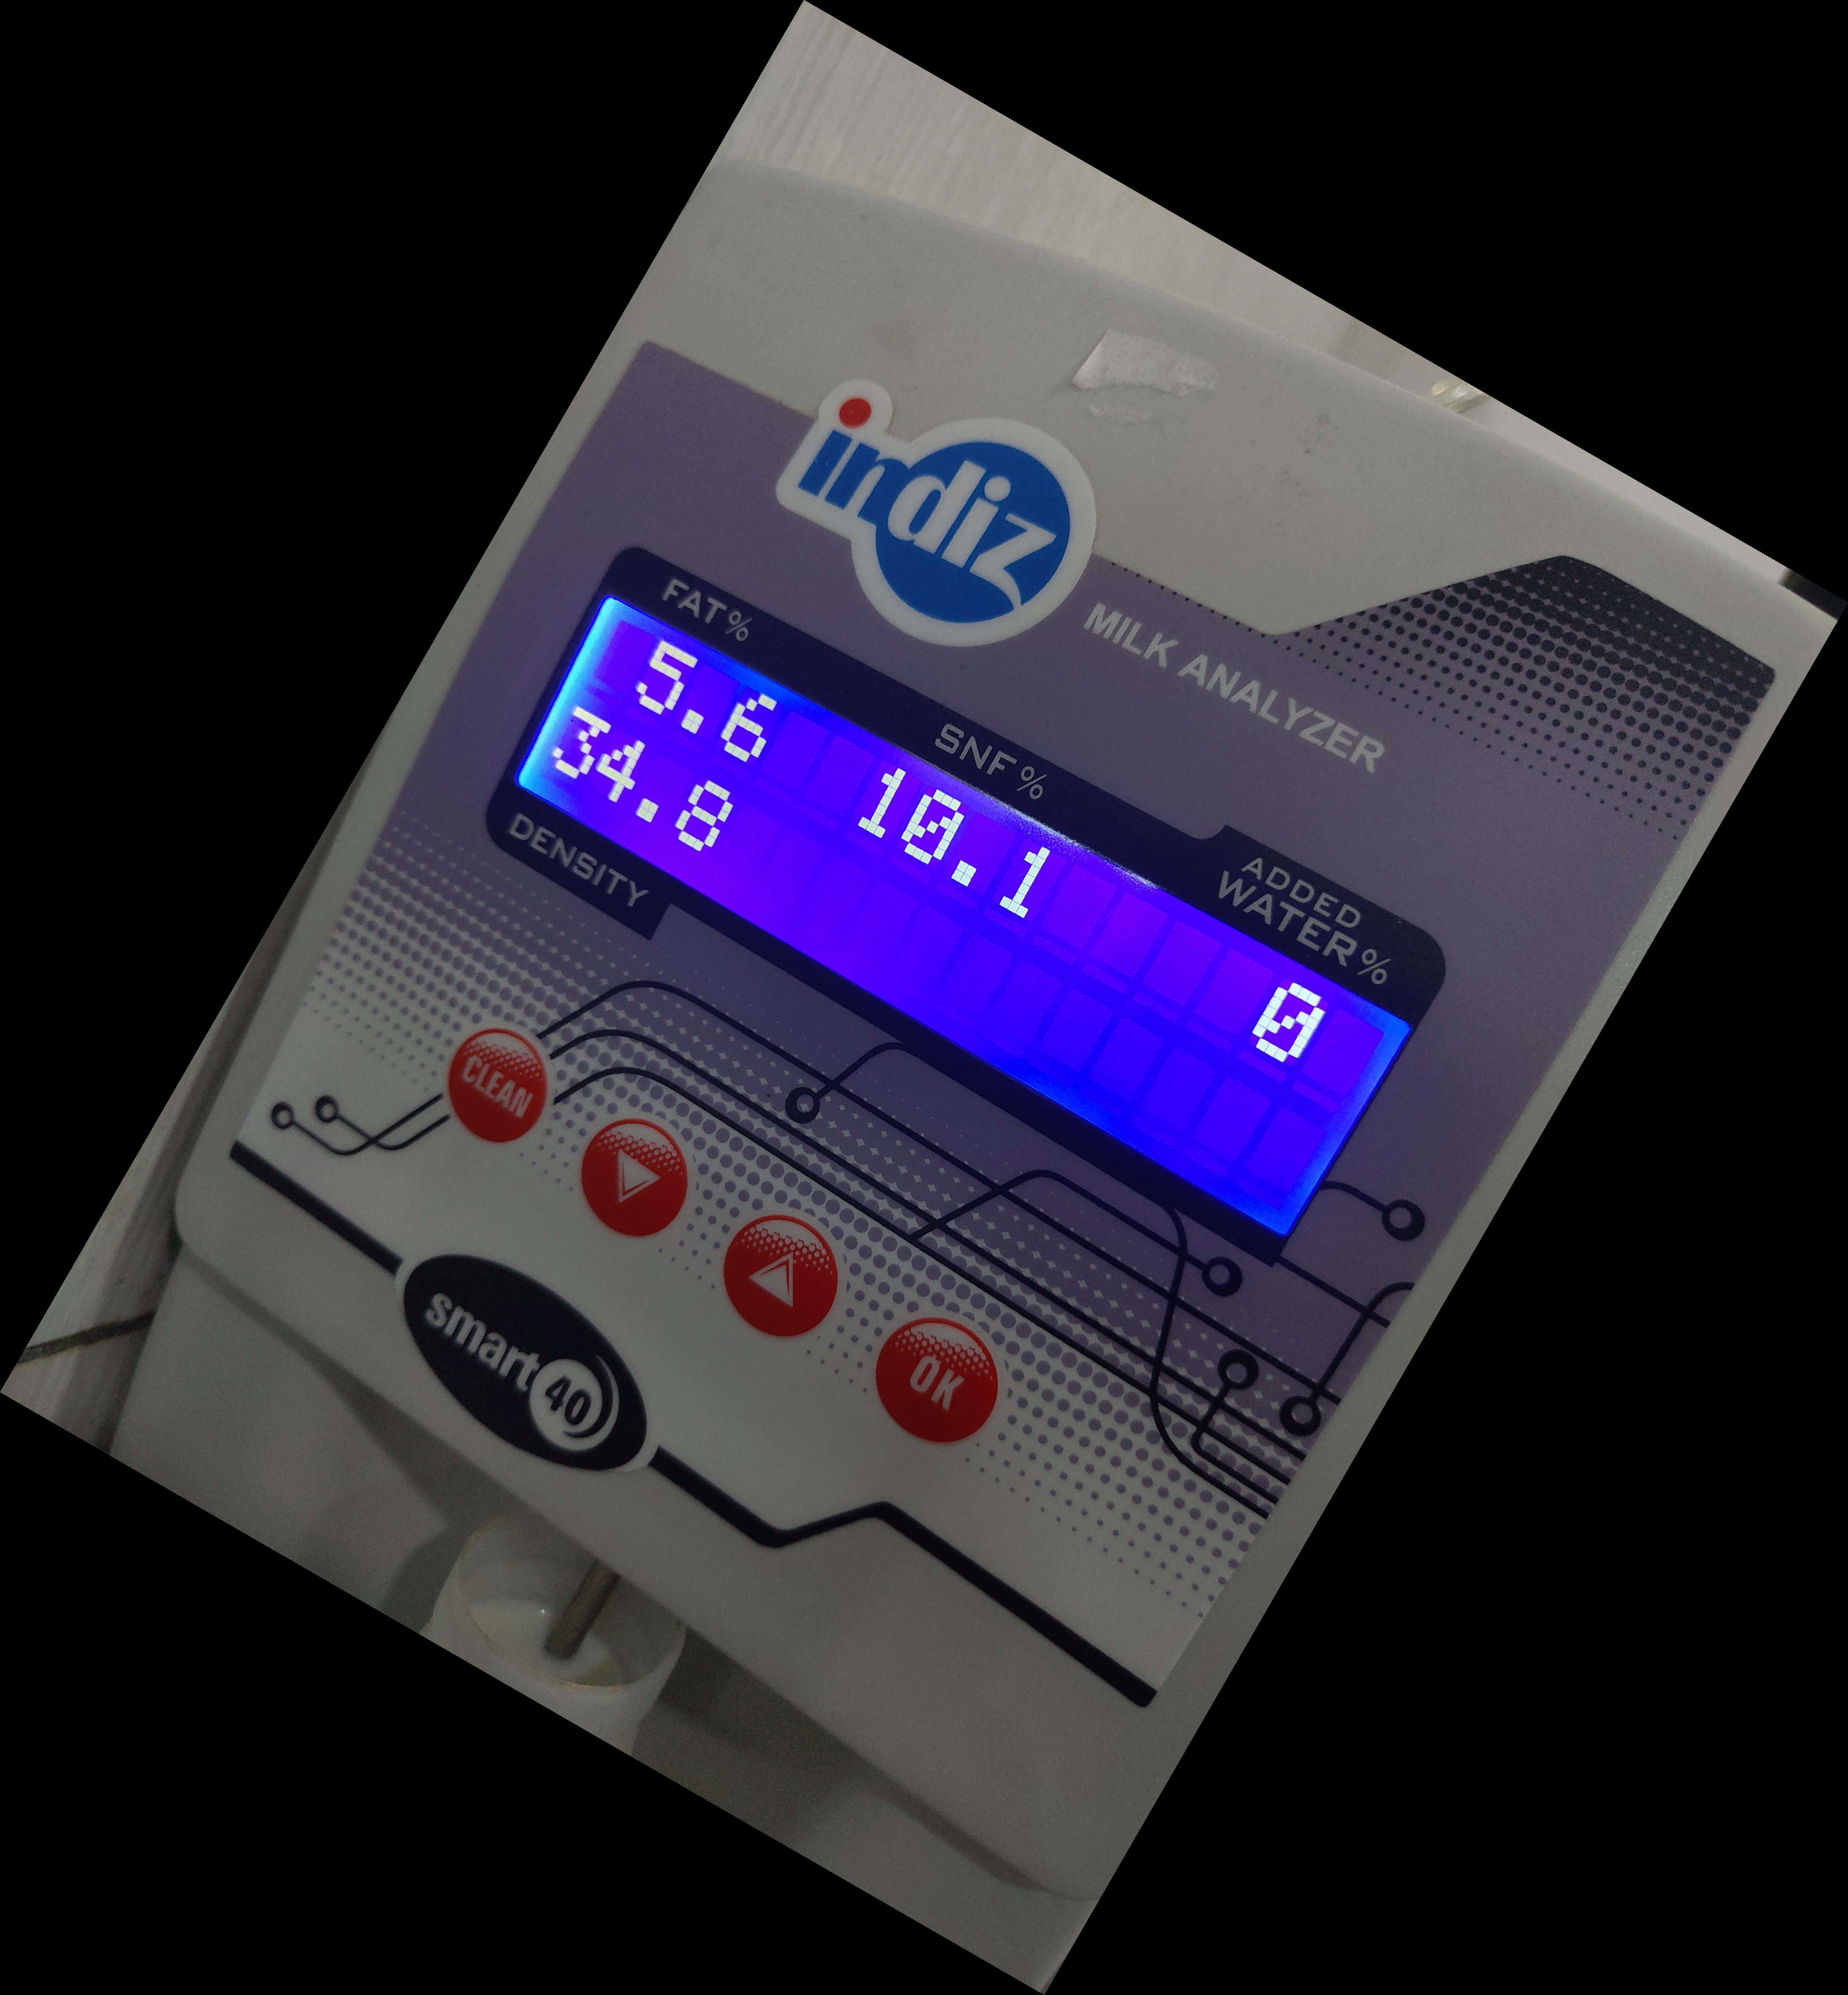lcd: (464, 561, 1438, 1286)
